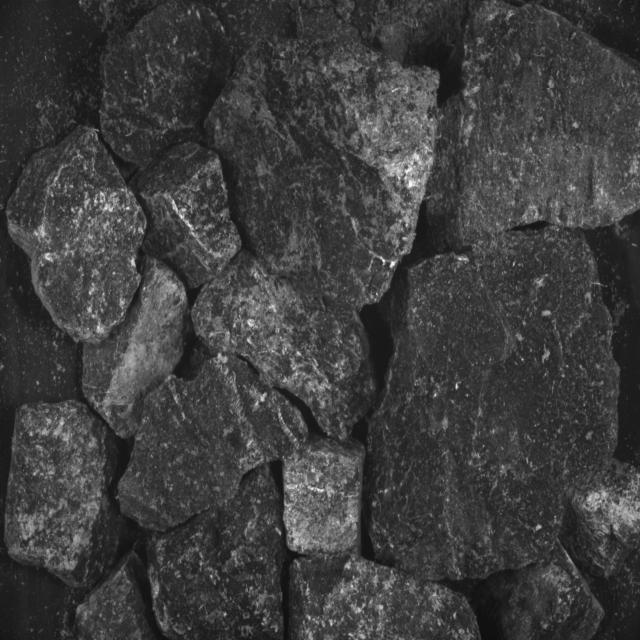Stones: (367, 227, 620, 580), (206, 41, 440, 309), (429, 3, 640, 249), (192, 251, 376, 441), (119, 355, 309, 533), (7, 128, 147, 344), (149, 466, 285, 640), (101, 3, 235, 169), (6, 401, 122, 588), (84, 257, 191, 439), (290, 555, 481, 640), (131, 143, 242, 289), (284, 436, 366, 556), (496, 550, 605, 640), (570, 460, 640, 578), (77, 552, 156, 640), (481, 476, 482, 479)
